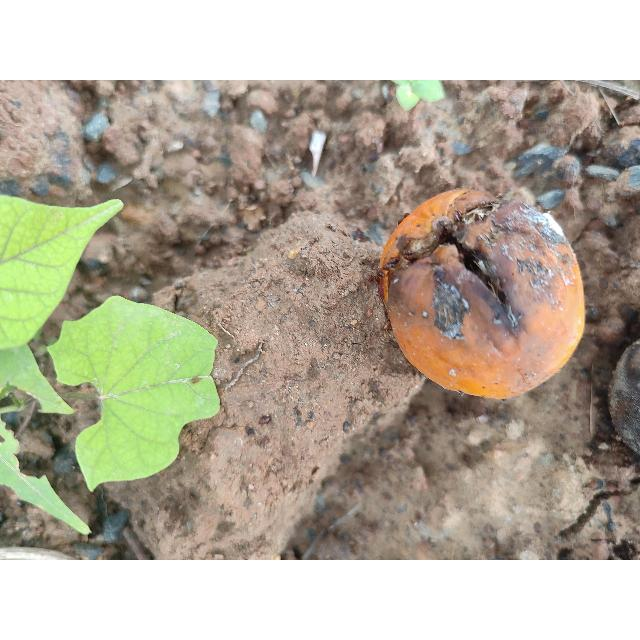damaged: (375, 189, 586, 400)
